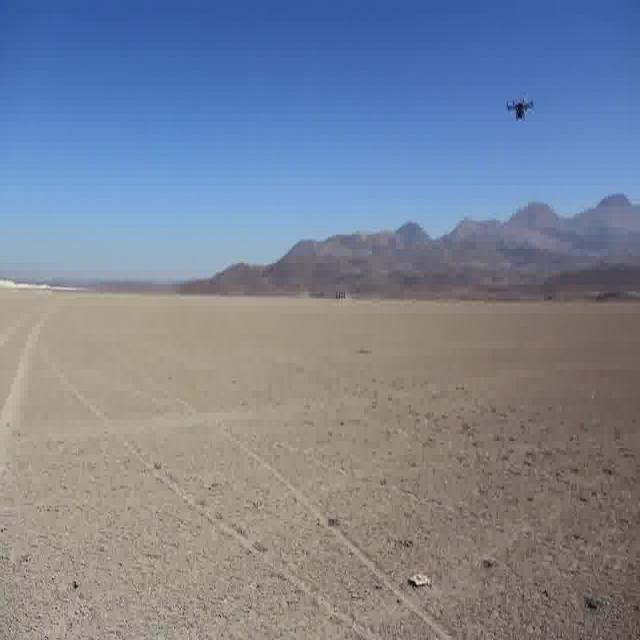drones: (498, 86, 538, 130)
